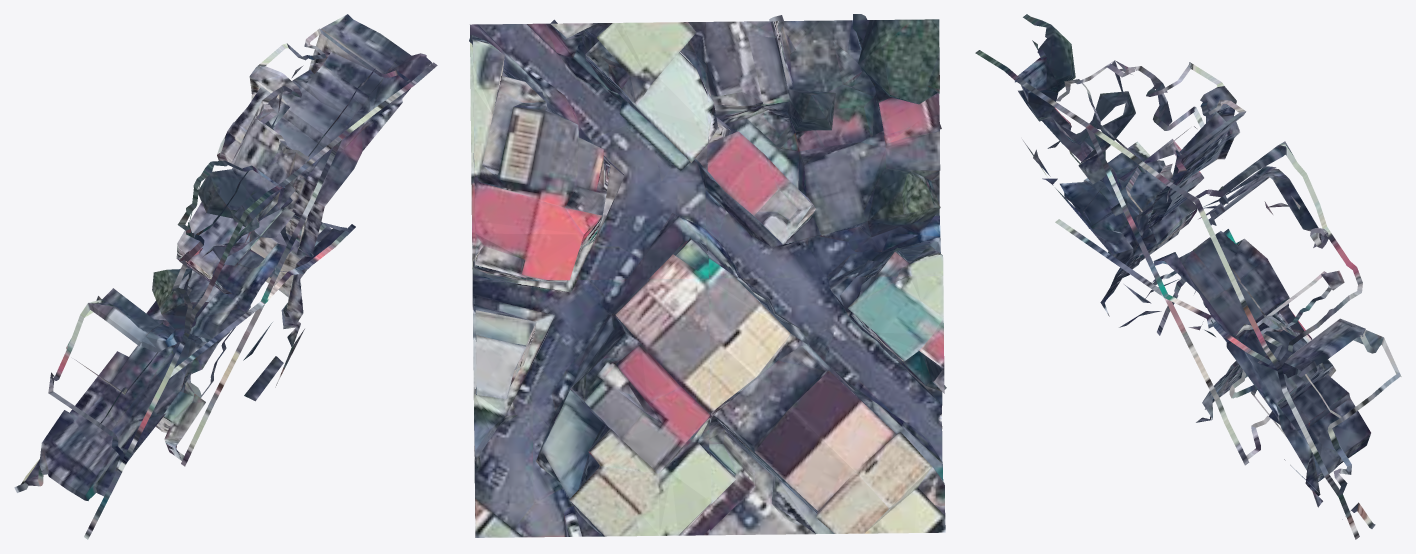
3 renders of one model, left to right at view 1: azimuth 30°, elevation 25°; view 2: azimuth 150°, elevation 25°; view 3: azimuth 270°, elevation 25°, orthographic. The views are drawn at different scales.
Bounding box in the file's own units: 83.12 × 78.25 × 70.81.
1 material, 1 textured.
